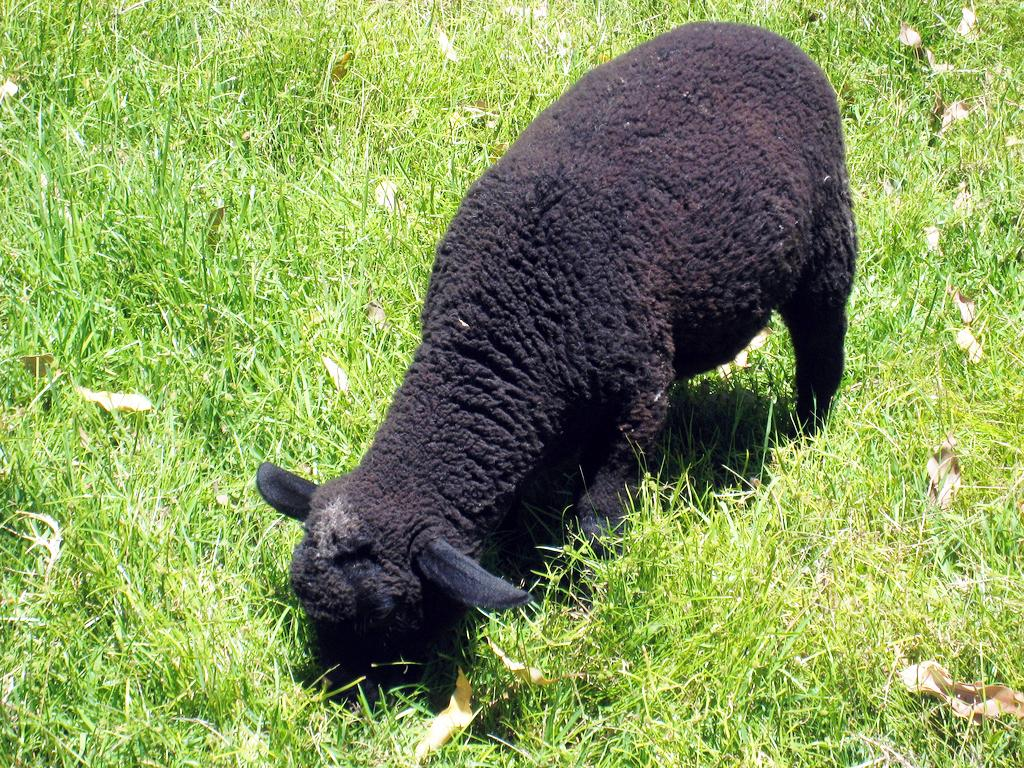Sheep: (256, 19, 860, 713)
